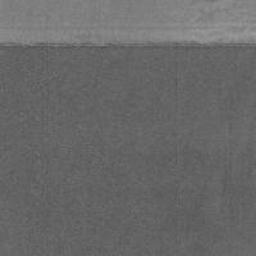Welding line: (0, 40, 256, 50)
